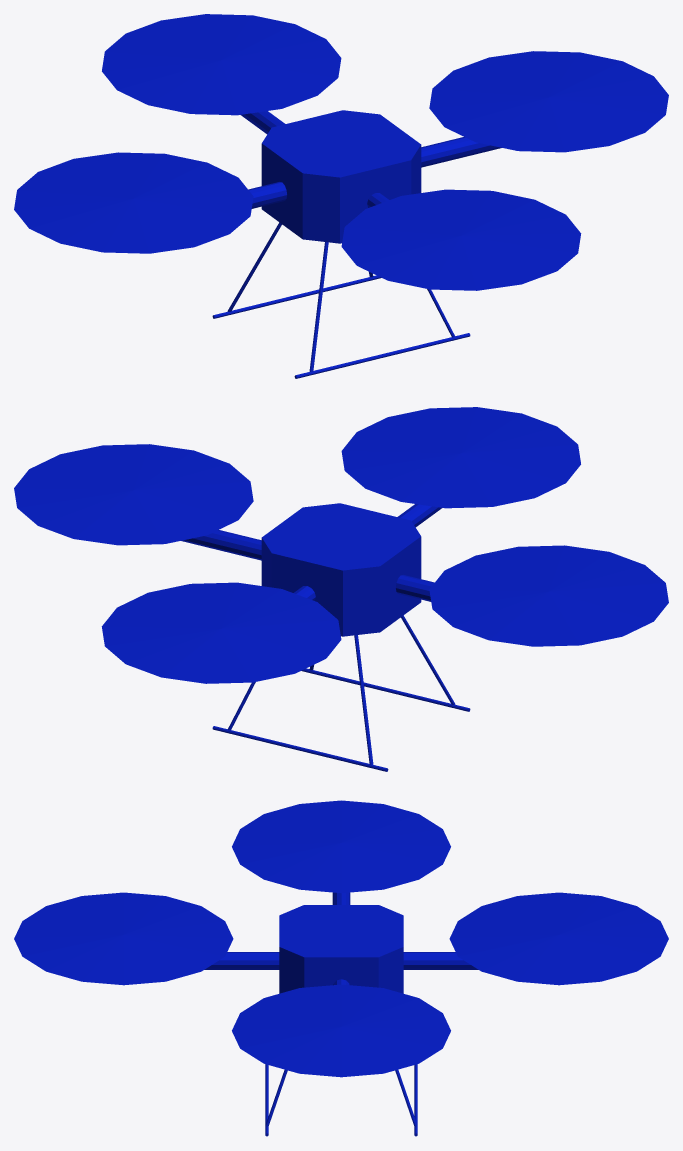
The model's file is quadrotor.dae.
3 renders of one model, top to bottom at view 1: azimuth 30°, elevation 25°; view 2: azimuth 150°, elevation 25°; view 3: azimuth 270°, elevation 25°, orthographic. The views are drawn at different scales.
Parts seen in each view (by area): view 1: base_link; view 2: base_link; view 3: base_link.
Boxes of the visible parts, <box> form: base_link: <box>14,14,668,378</box>; base_link: <box>14,407,668,771</box>; base_link: <box>14,800,668,1136</box>.
Bounding box in the file's own units: 0.7911 × 0.7911 × 0.2225.
